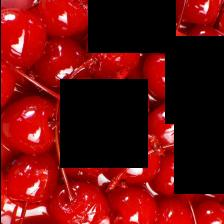red: (142, 52, 192, 100)
